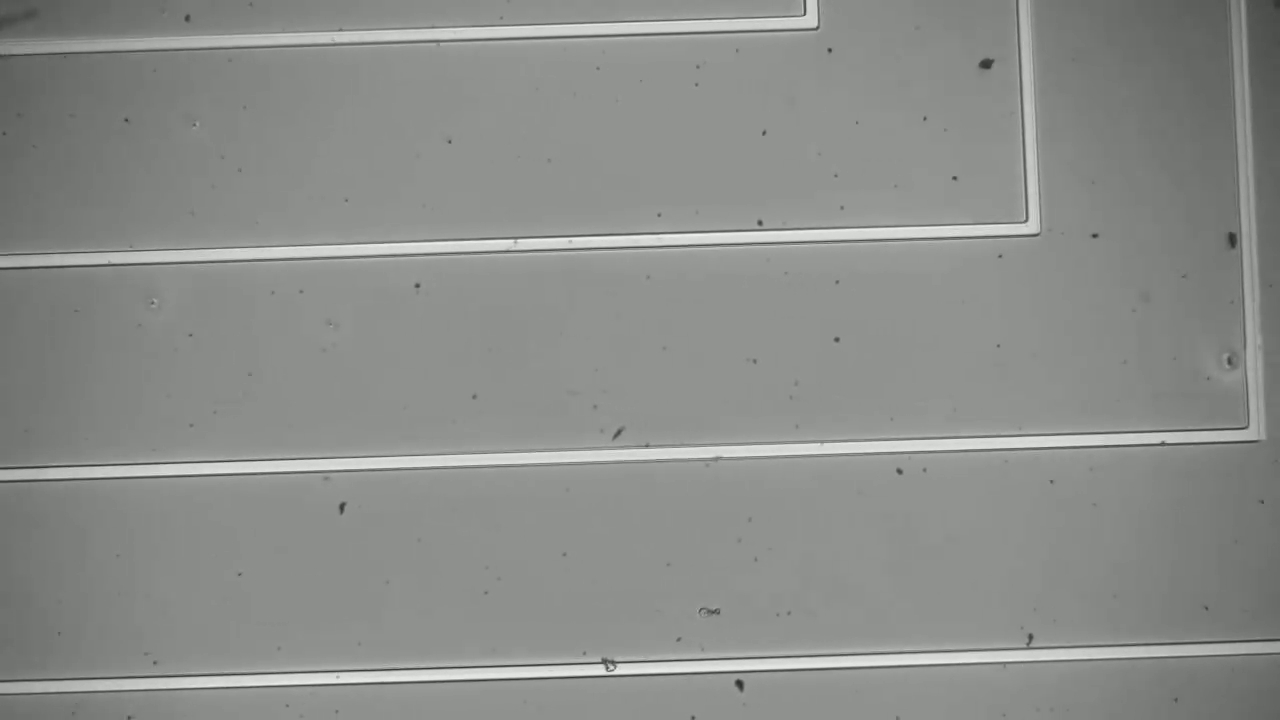stains_enbedded: (596, 649, 625, 682)
